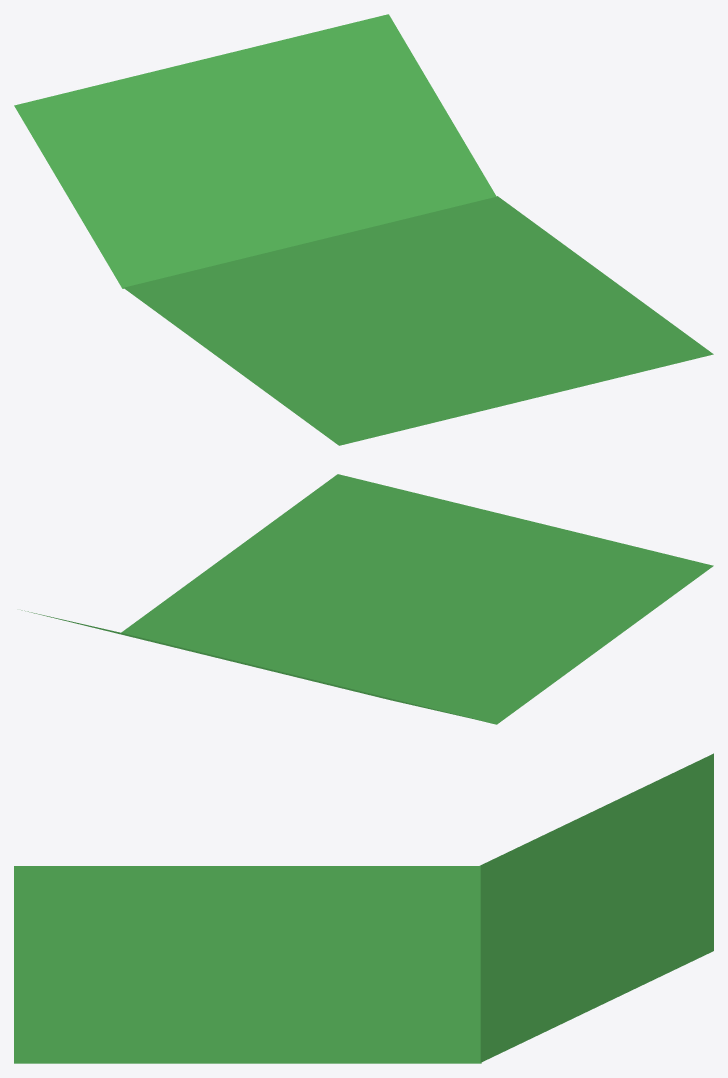
3 views of the same model, one above another, from view 1: azimuth 30°, elevation 25°; view 2: azimuth 150°, elevation 25°; view 3: azimuth 270°, elevation 25° (orthographic). The views are drawn at different scales.
Parts seen in each view (by area): view 1: Plane, Plane.001; view 2: Plane, Plane.001; view 3: Plane, Plane.001.
Boxes of the visible parts, x1=… form: Plane: x1=123, y1=196, x2=713, y2=445; Plane.001: x1=14, y1=14, x2=496, y2=288; Plane: x1=121, y1=474, x2=713, y2=724; Plane.001: x1=21, y1=610, x2=488, y2=722; Plane: x1=14, y1=866, x2=481, y2=1063; Plane.001: x1=480, y1=753, x2=713, y2=1062.
Bounding box in the file's own units: 4.8 × 1.27 × 7.17.
